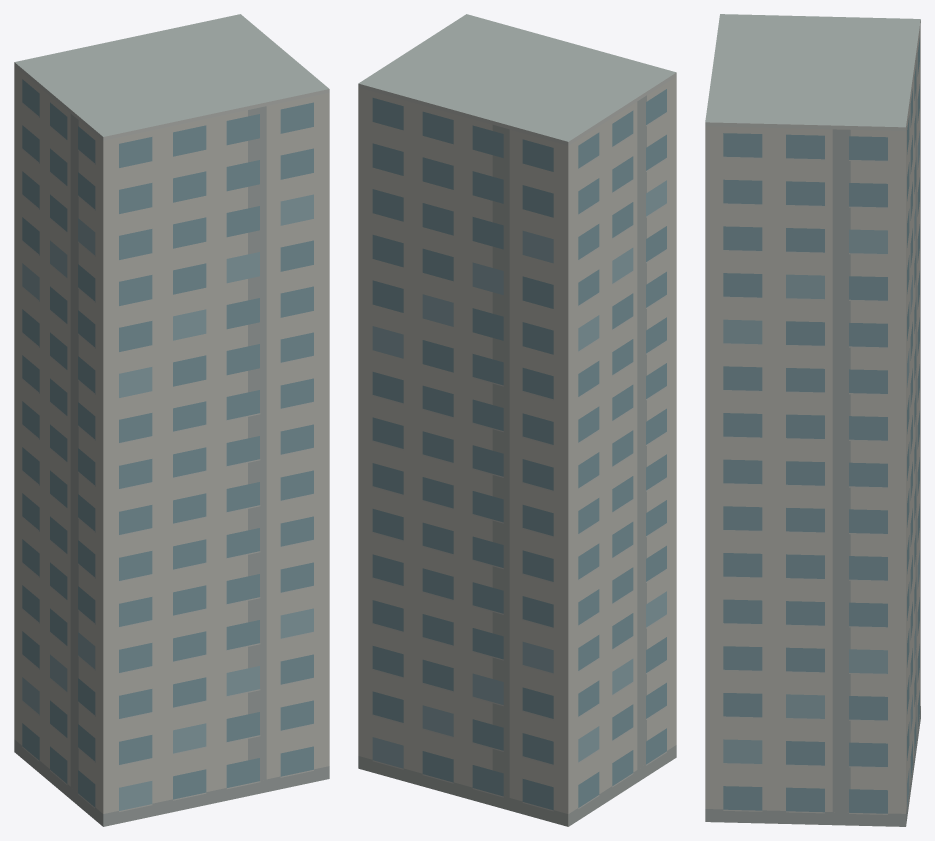
File: residential-91993562-dc61-40b6-867b-b3d00dc72a22.glb
3 renders of one model, left to right at view 1: azimuth 30°, elevation 25°; view 2: azimuth 150°, elevation 25°; view 3: azimuth 270°, elevation 25°, orthographic. The views are drawn at different scales.
Visible parts, largest first — view 1: residential-91993562-dc61-40b6-867b-b3d00dc72a22.tmp; view 2: residential-91993562-dc61-40b6-867b-b3d00dc72a22.tmp; view 3: residential-91993562-dc61-40b6-867b-b3d00dc72a22.tmp.
Boxes of the visible parts, x1,y1,x2,y2 form: residential-91993562-dc61-40b6-867b-b3d00dc72a22.tmp: (14, 14, 329, 826); residential-91993562-dc61-40b6-867b-b3d00dc72a22.tmp: (358, 14, 676, 826); residential-91993562-dc61-40b6-867b-b3d00dc72a22.tmp: (705, 14, 920, 826).
Size of the model in its own units: 15.29 by 44 by 12.3.
